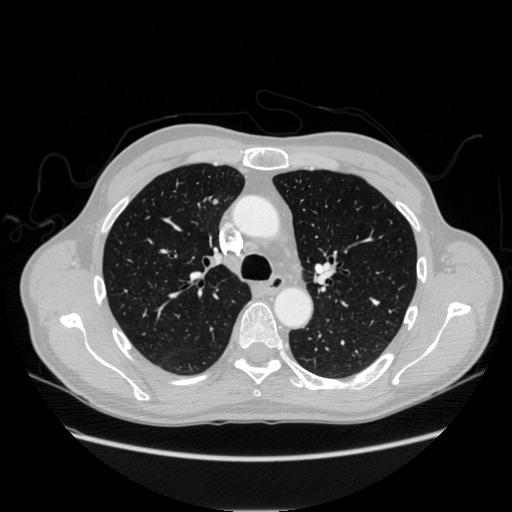nodule: (210, 196, 221, 207)
